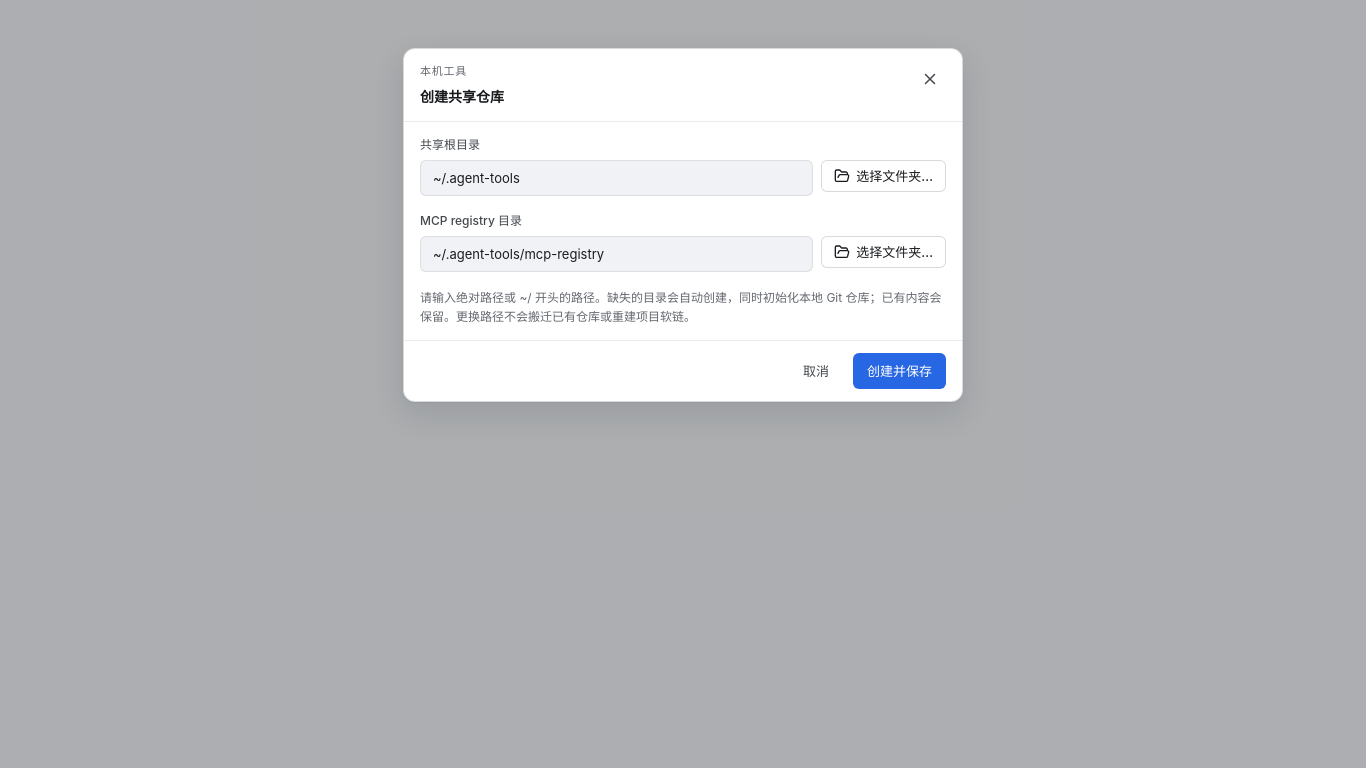
Test: directory selection in forms › follows the root and preserves a custom registry in initialization
The width and height of the screenshot is (1366, 768).
Expected: the field labelled "共享根目录" holds "~/.agent-tools", [420, 160, 813, 196]
Step 1. Click the 1st button "选择文件夹…" → [884, 176], box [821, 160, 946, 192]
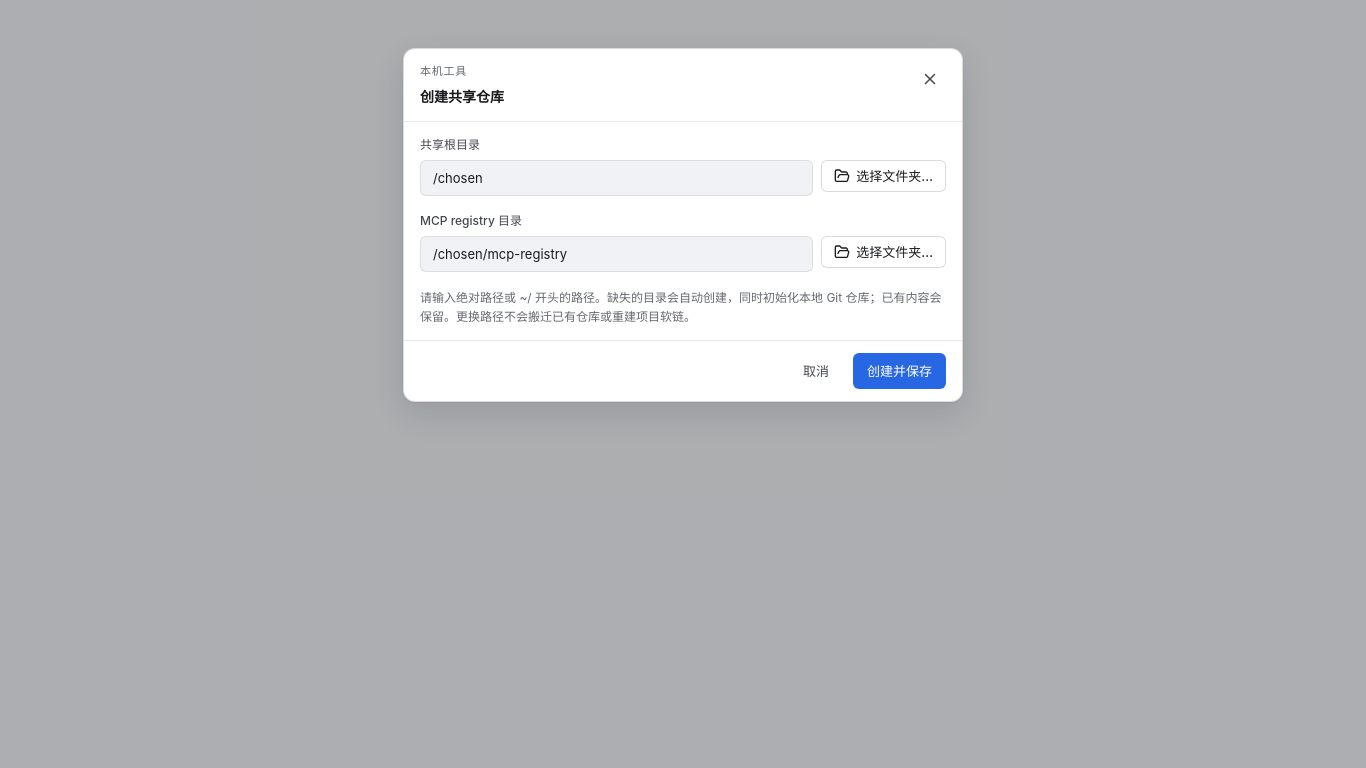
Now the field labelled "共享根目录" holds "/chosen", box [420, 160, 813, 196]
Now the field labelled "MCP registry 目录" holds "/chosen/mcp-registry", box [420, 236, 813, 272]
Step 2. Click the 2nd button "选择文件夹…" → [884, 252], box [821, 236, 946, 268]
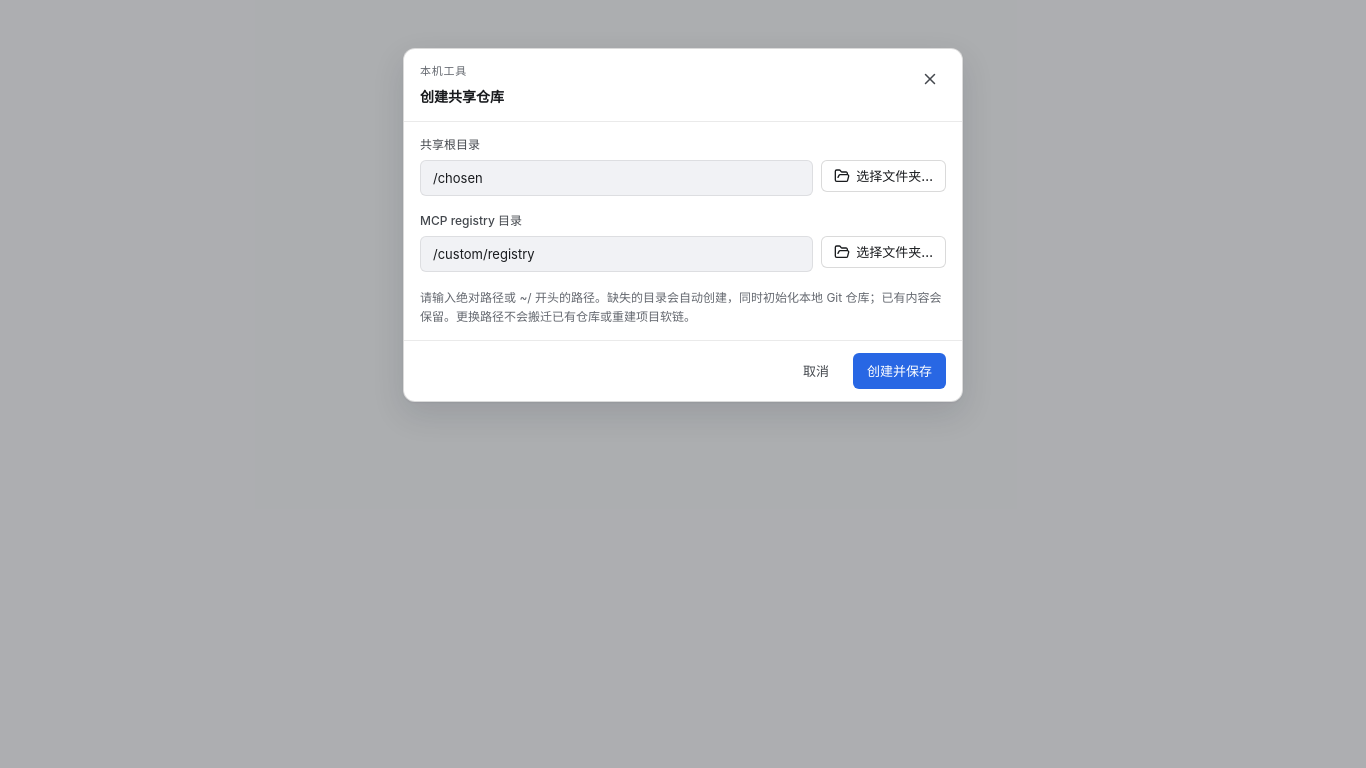
Step 3. Click the 1st button "选择文件夹…" → [884, 176], box [821, 160, 946, 192]
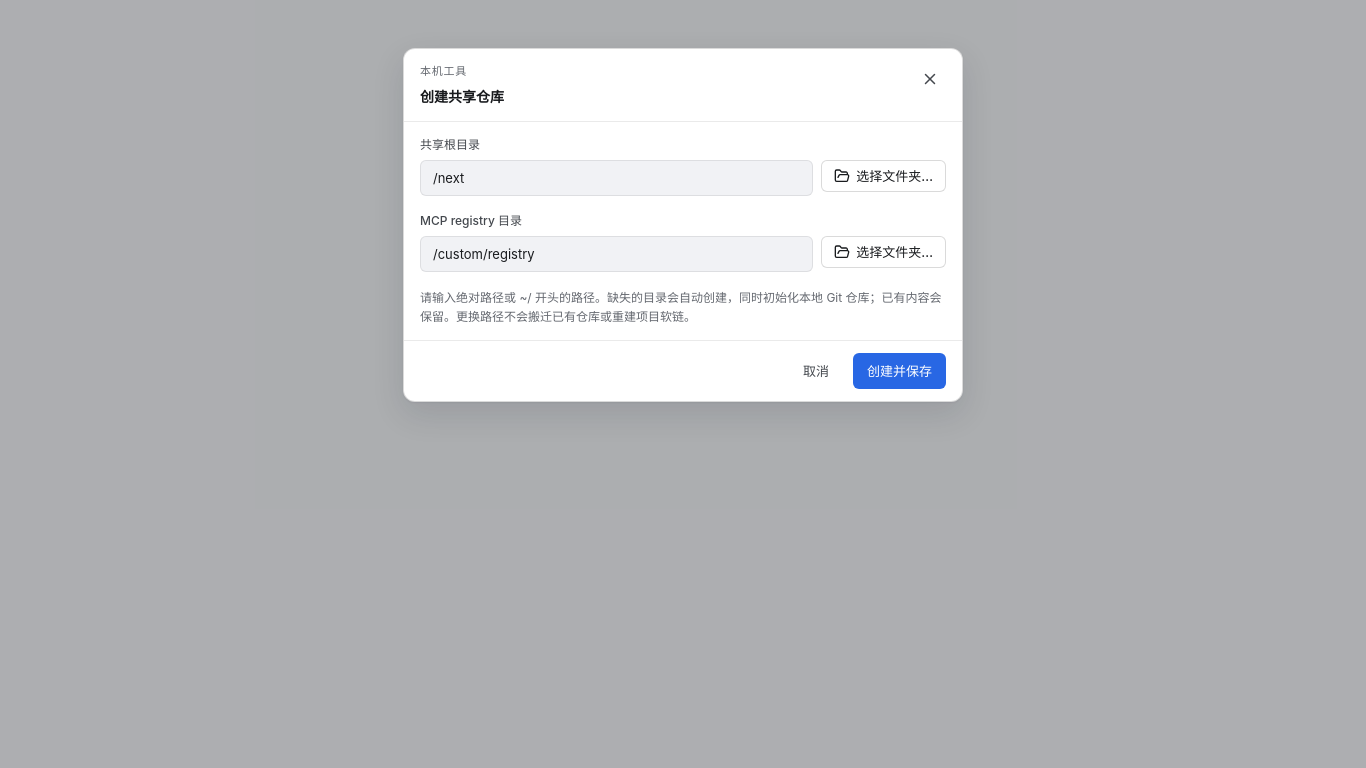
Now the field labelled "MCP registry 目录" holds "/custom/registry", box [420, 236, 813, 272]
Now the field labelled "共享根目录" holds "/next", box [420, 160, 813, 196]
